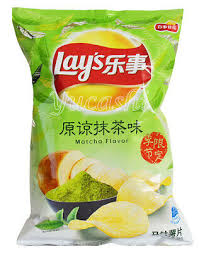lays-med: (12, 8, 186, 242)
